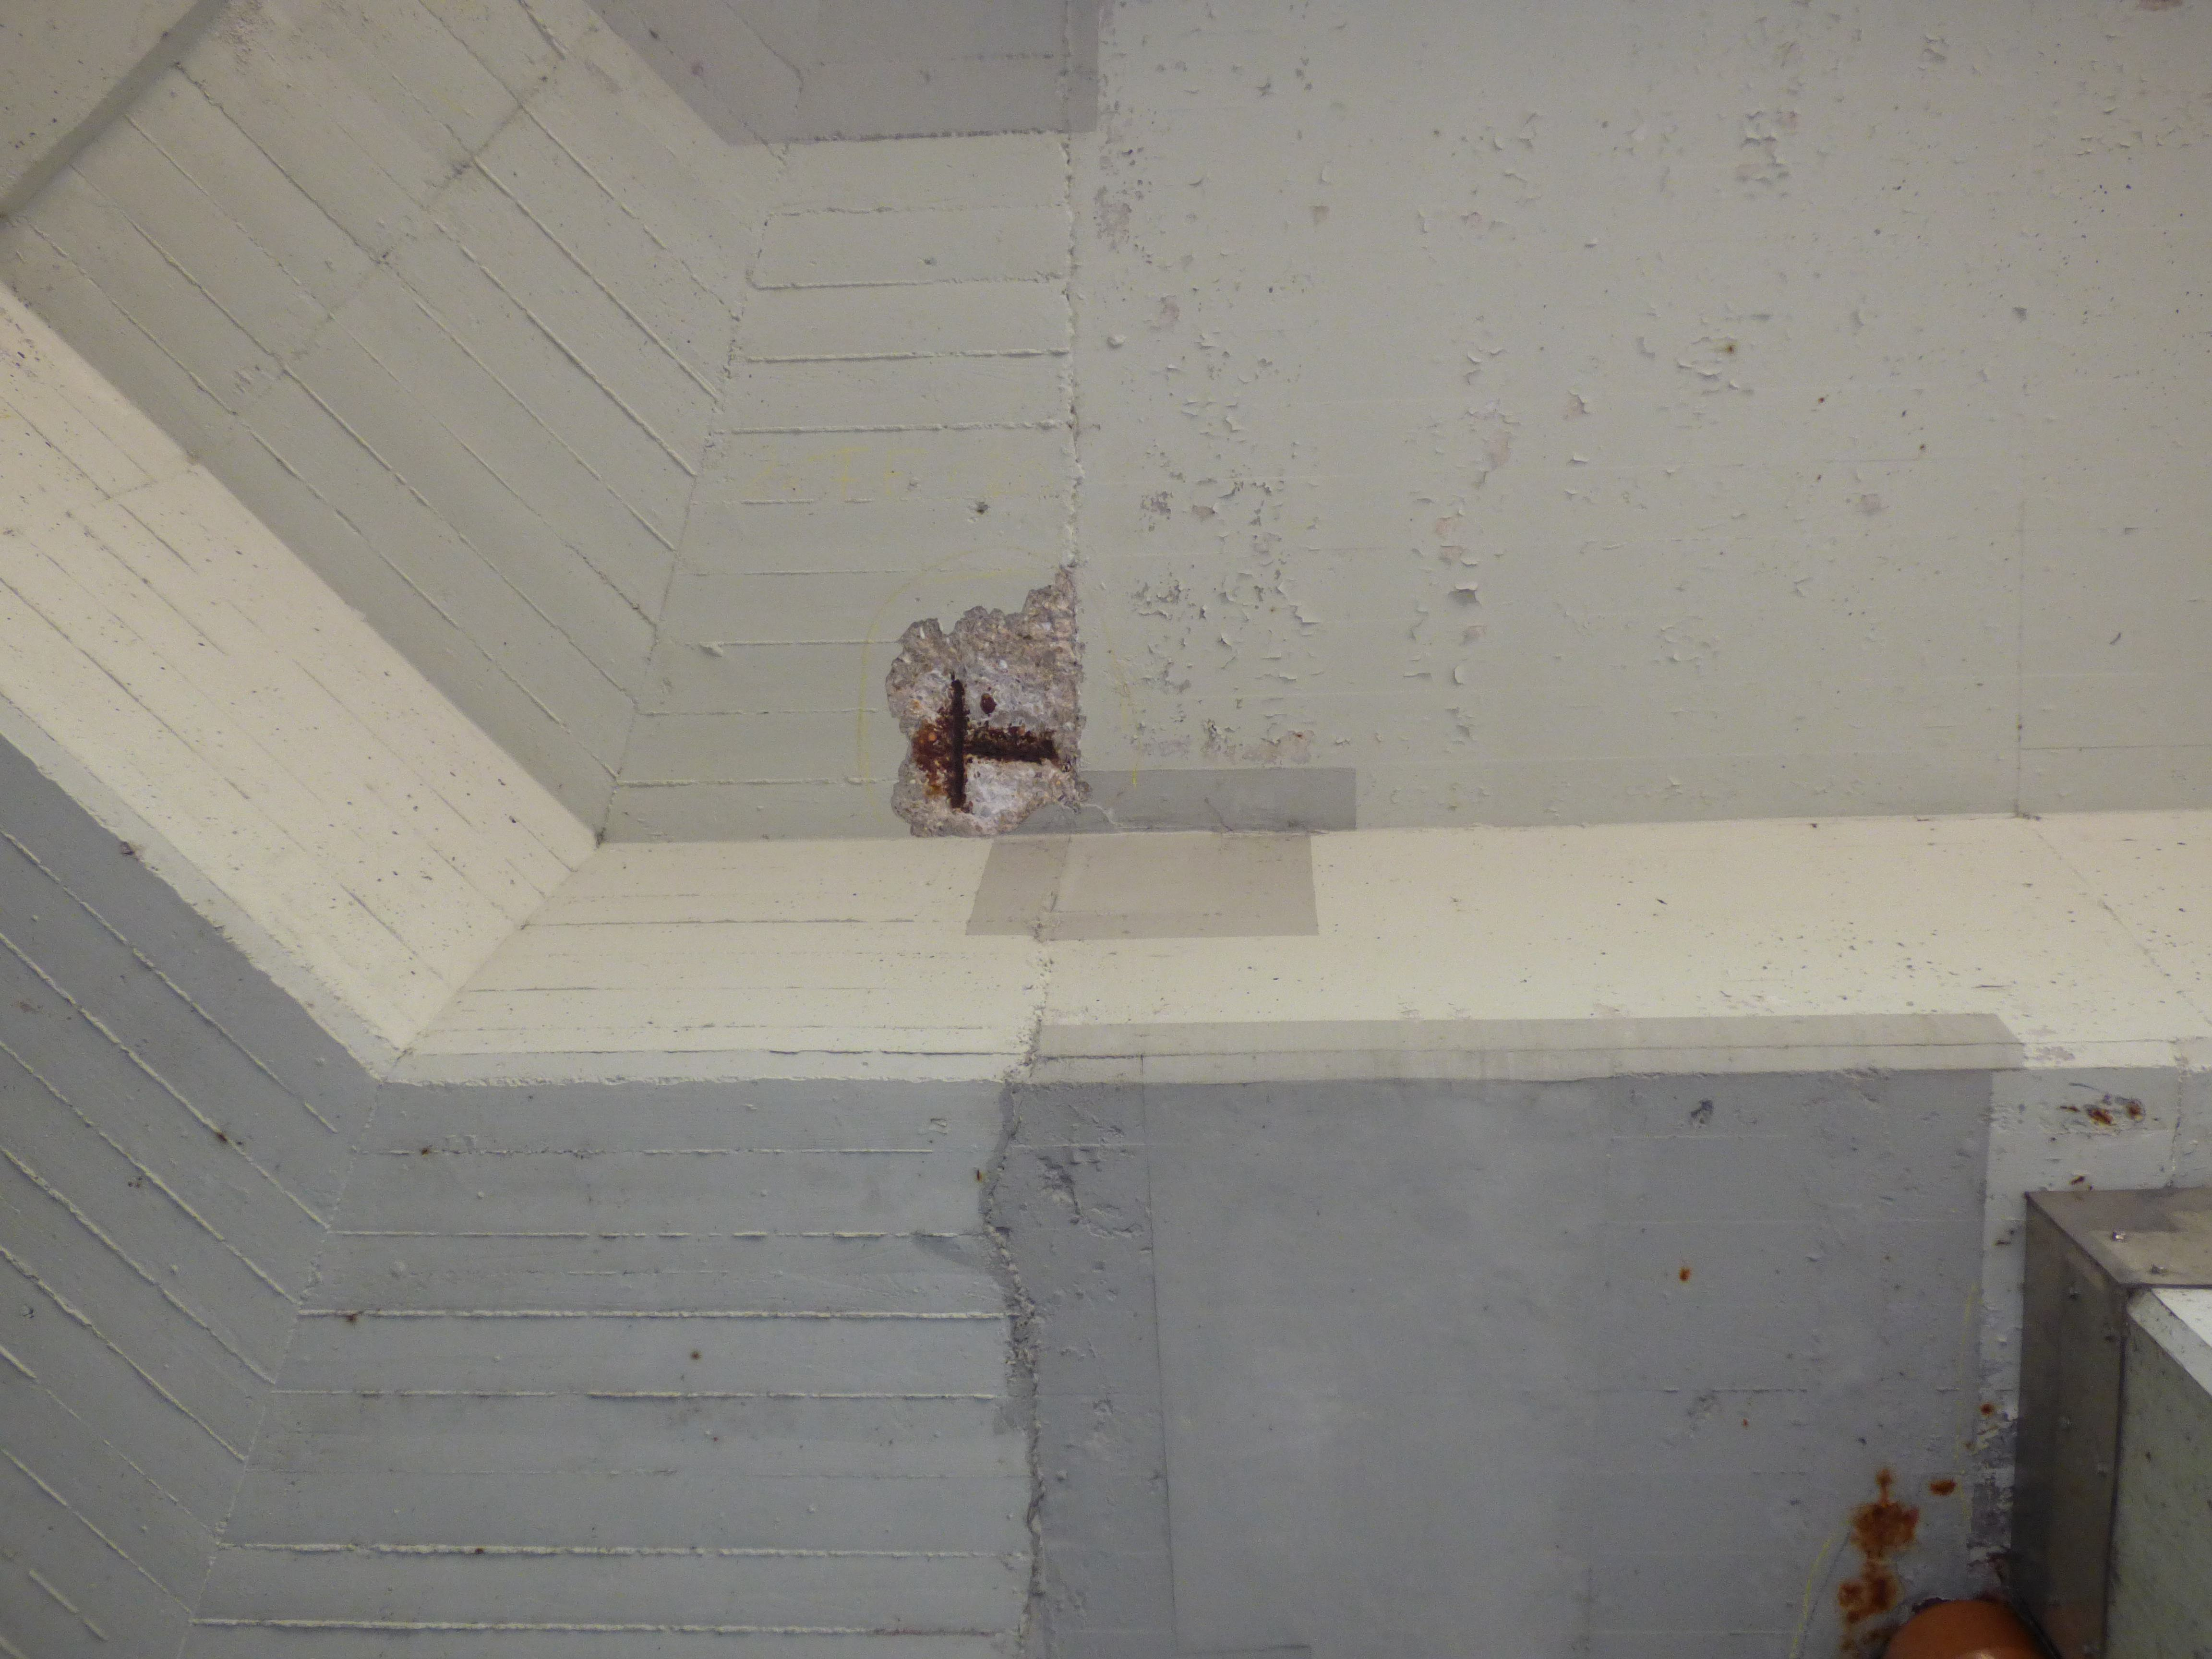Corrosion: (1834, 1466, 1921, 1659), (911, 706, 951, 800), (1928, 1478, 1958, 1497), (979, 692, 996, 718), (1980, 1403, 1994, 1417), (1679, 1267, 1691, 1283)
Exposed reinforcement: (951, 680, 965, 807), (967, 742, 1054, 762), (2087, 1108, 2111, 1124), (2060, 1105, 2080, 1114), (2071, 1176, 2085, 1187), (2130, 1107, 2141, 1114)
Spalling: (885, 561, 1092, 838)
